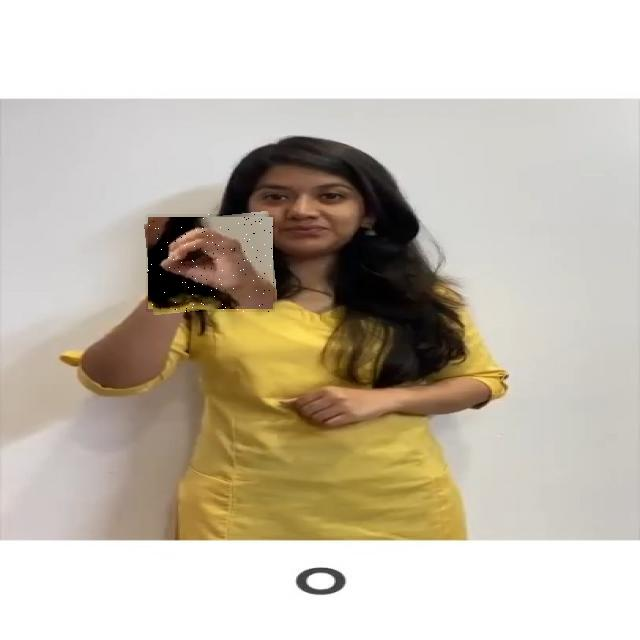O: (146, 214, 275, 312)
